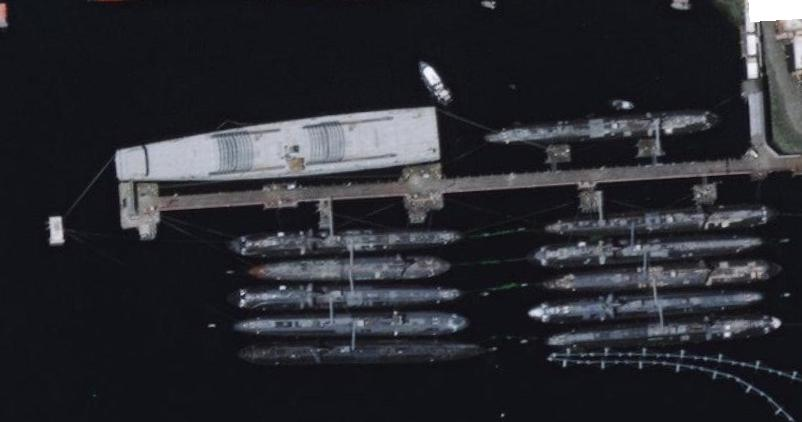submarine: (485, 93, 731, 153), (548, 314, 784, 373), (217, 215, 474, 257), (218, 339, 505, 375), (534, 196, 780, 236), (215, 253, 469, 289), (208, 281, 479, 314), (504, 263, 788, 291), (515, 289, 778, 318), (518, 233, 779, 261), (202, 314, 485, 339)
